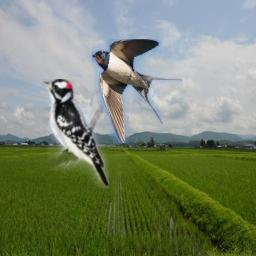Swallow: (92, 39, 183, 143)
Woodpecker: (42, 79, 109, 188)
